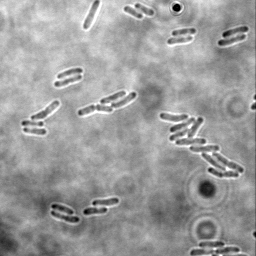Dividing: (29, 98, 62, 122), (76, 102, 114, 118), (189, 245, 241, 256), (53, 73, 84, 89), (48, 210, 81, 224)
Microcolony: (157, 111, 246, 180)
Rod: (82, 1, 101, 31), (110, 90, 138, 110), (99, 89, 128, 106), (217, 33, 248, 48), (222, 24, 249, 40), (56, 66, 84, 81), (133, 2, 156, 18), (122, 5, 145, 20), (50, 202, 76, 215), (167, 34, 195, 46), (171, 26, 198, 38), (82, 205, 109, 217), (92, 196, 120, 207), (21, 126, 48, 137), (198, 239, 226, 249), (19, 119, 45, 128)
